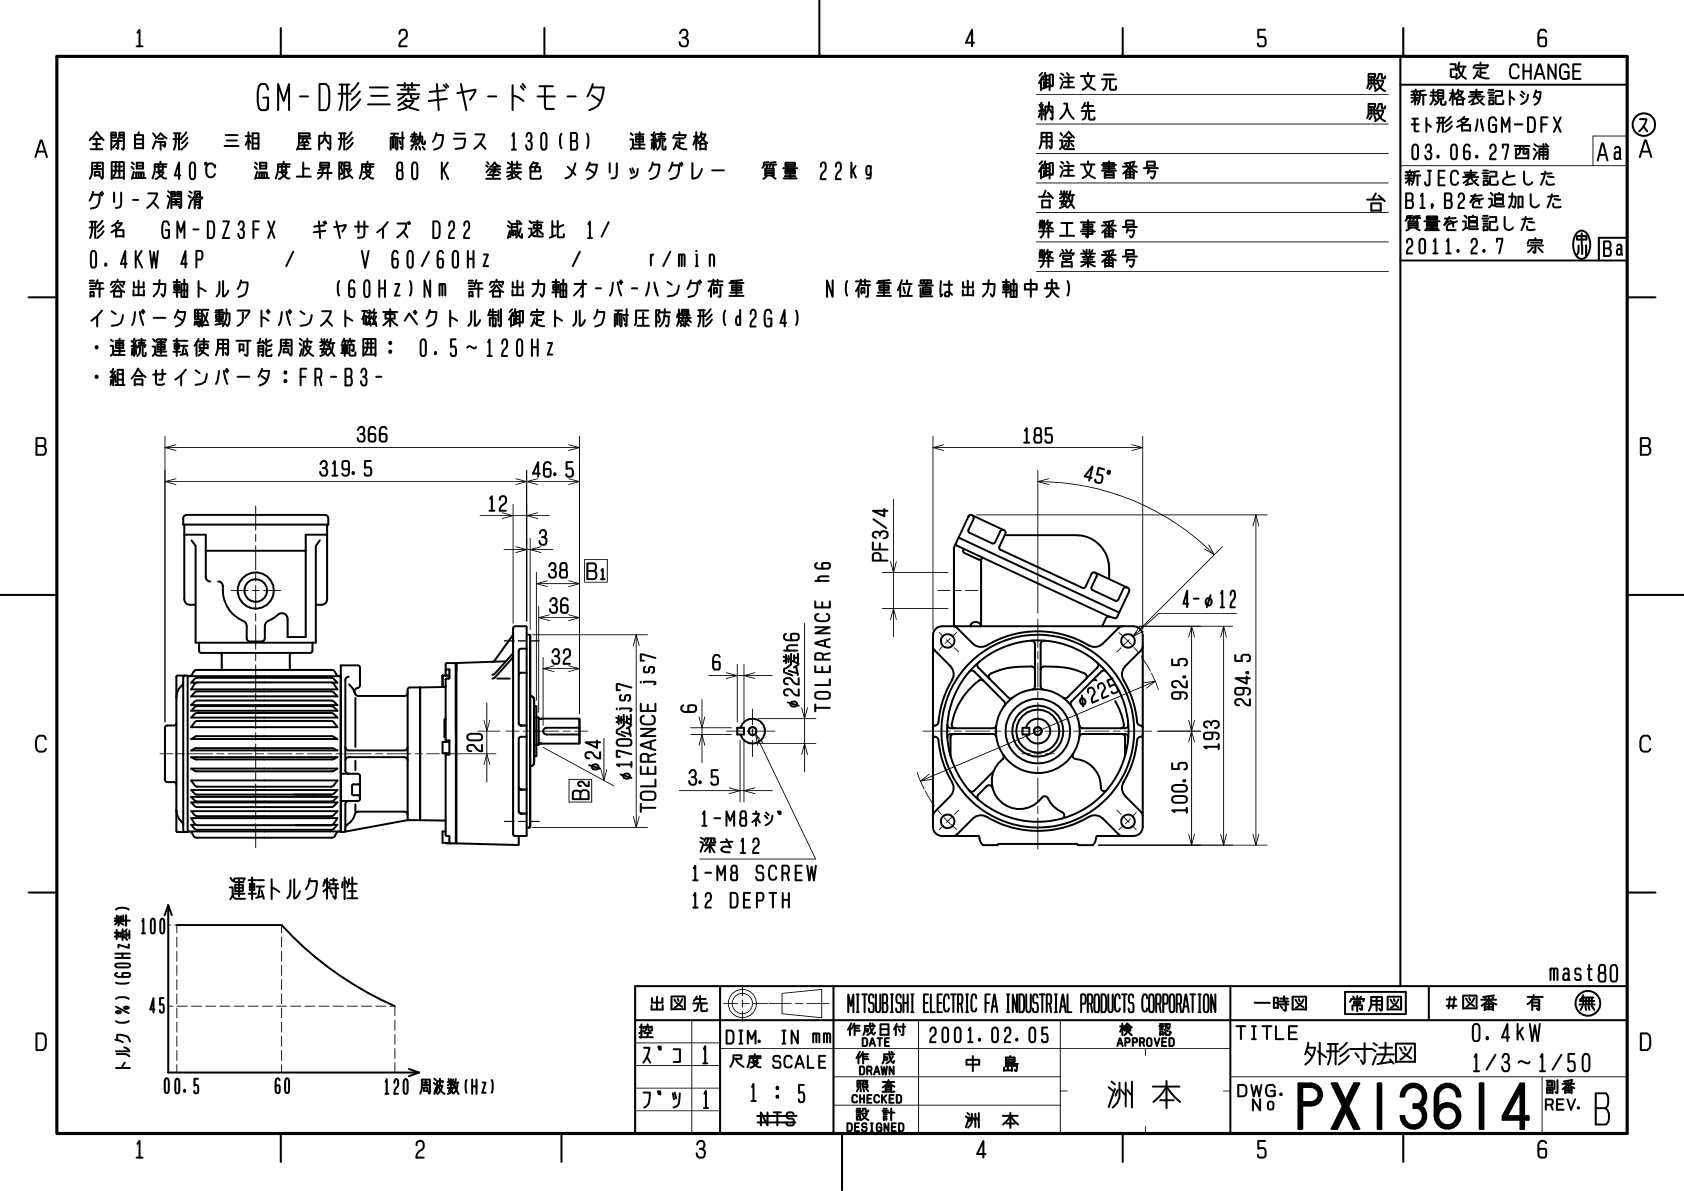GM_D_制御屋内_三相_フランジ: (1, 1, 1669, 1181)
